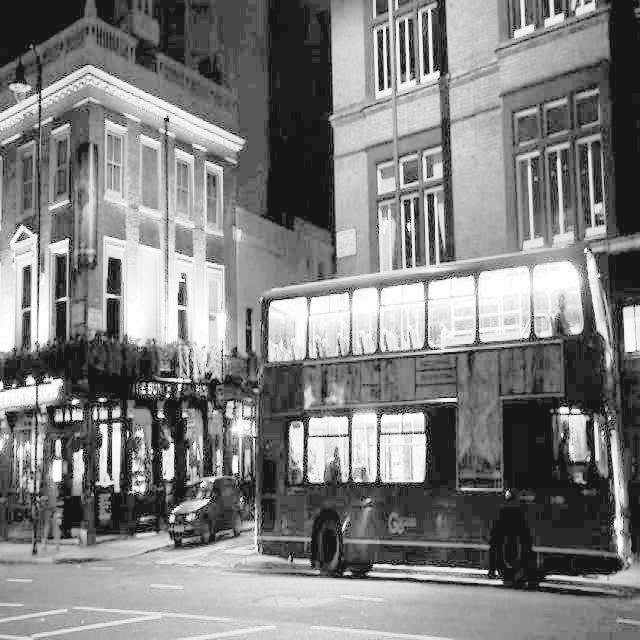Bus: (250, 232, 633, 596)
Car: (166, 464, 246, 546)
